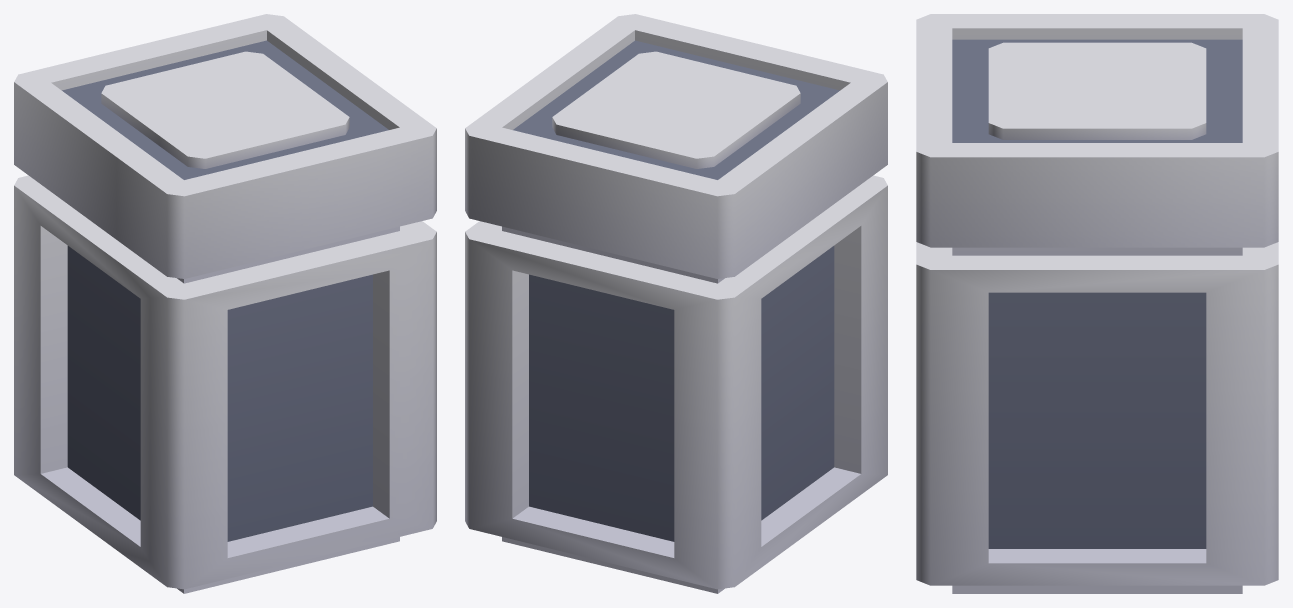
Rendered from building-a_far.glb.
3 views of the same model, side by side, from view 1: azimuth 30°, elevation 25°; view 2: azimuth 150°, elevation 25°; view 3: azimuth 270°, elevation 25° (orthographic). The views are drawn at different scales.
Parts seen in each view (by area): view 1: low-detail-building-a; view 2: low-detail-building-a; view 3: low-detail-building-a.
Part boxes in pixels (x1,y1,x2,y2): low-detail-building-a: [14, 14, 436, 593]; low-detail-building-a: [465, 14, 887, 593]; low-detail-building-a: [916, 14, 1278, 593].
Size of the model in its own units: 0.88 by 1.29 by 0.94.
1 material, 1 textured.
